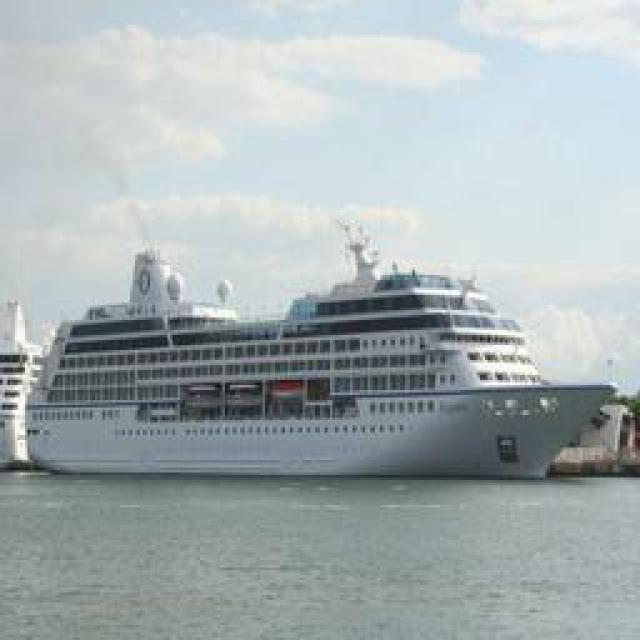Ship: (38, 228, 623, 483)
